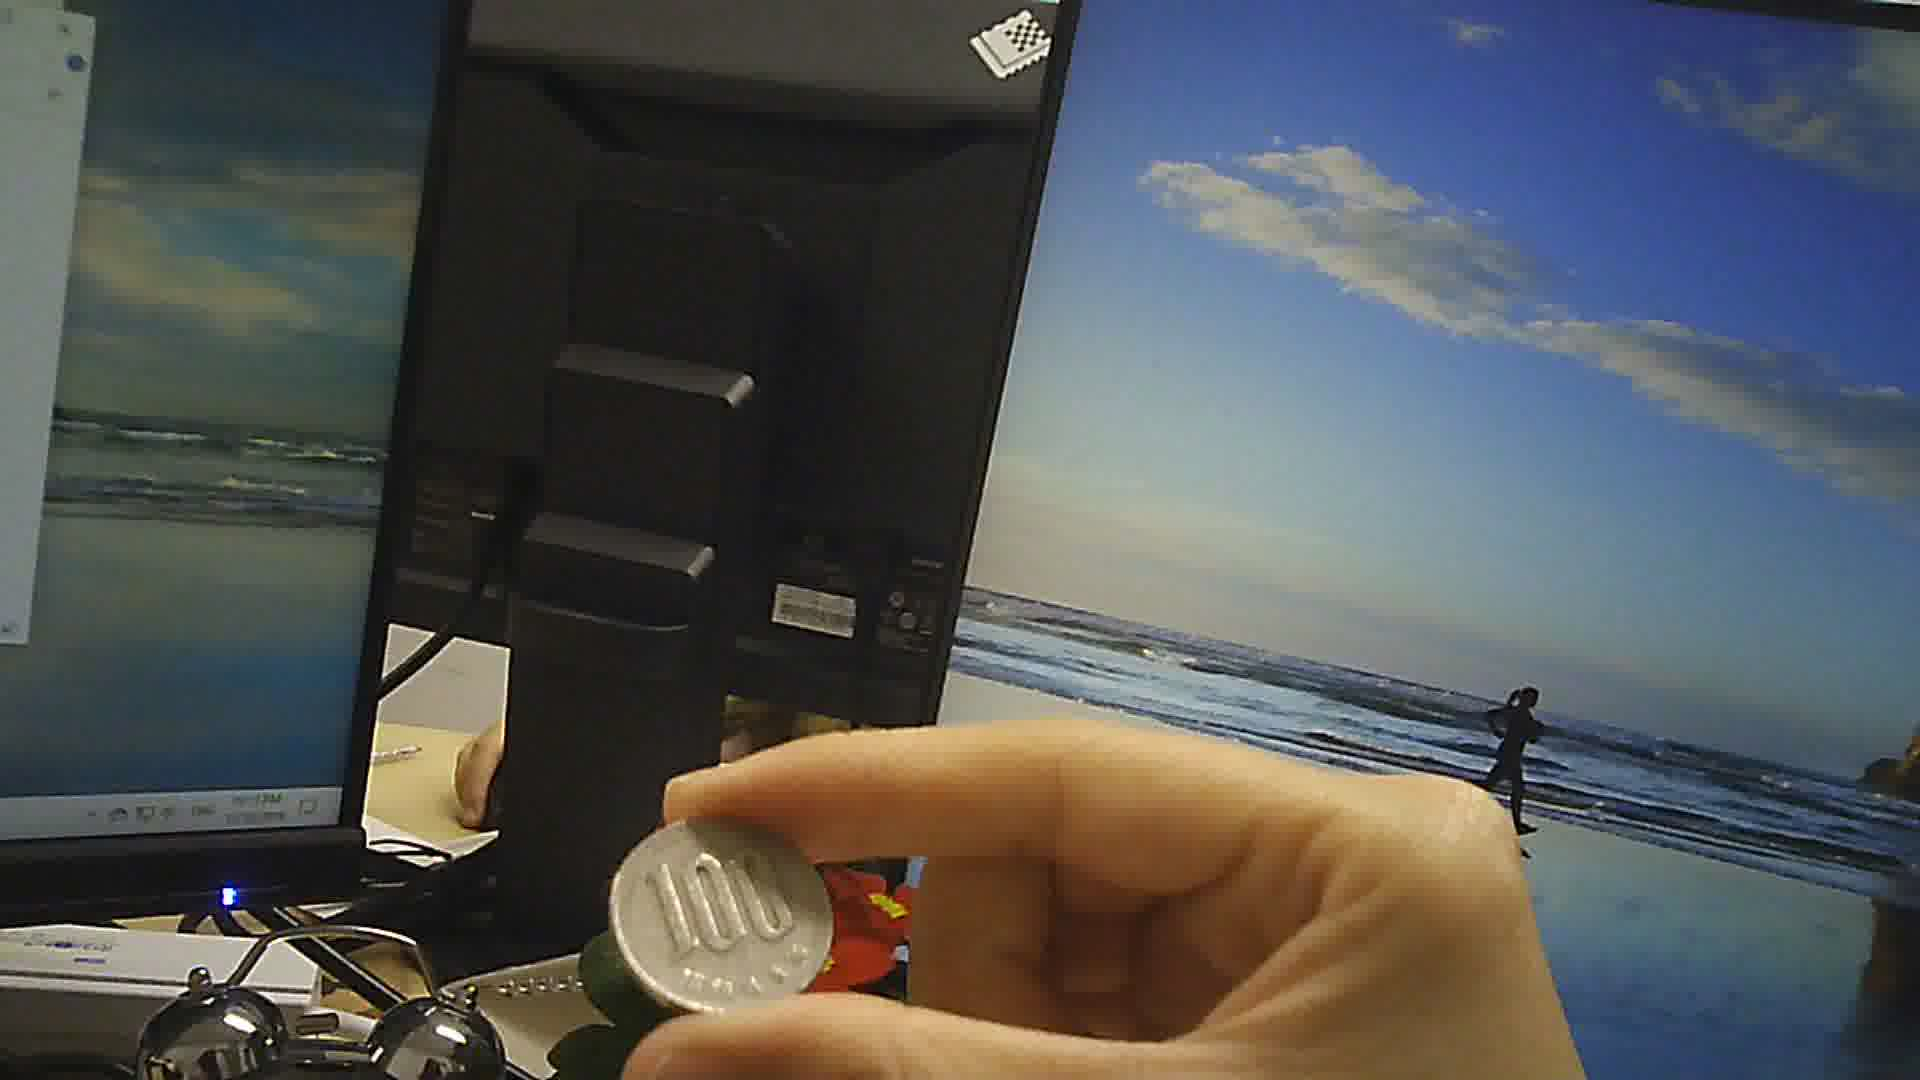100 Yen: (597, 812, 835, 1023)
